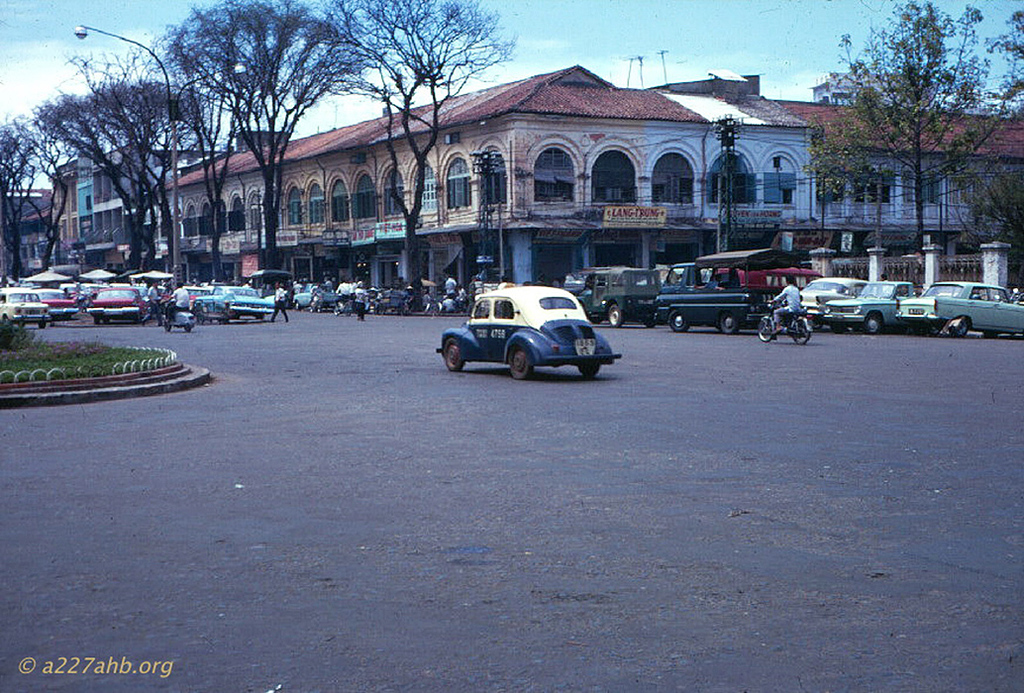Car: (437, 276, 624, 379), (0, 284, 339, 329), (896, 281, 1023, 338), (822, 280, 947, 333), (800, 275, 888, 325)
